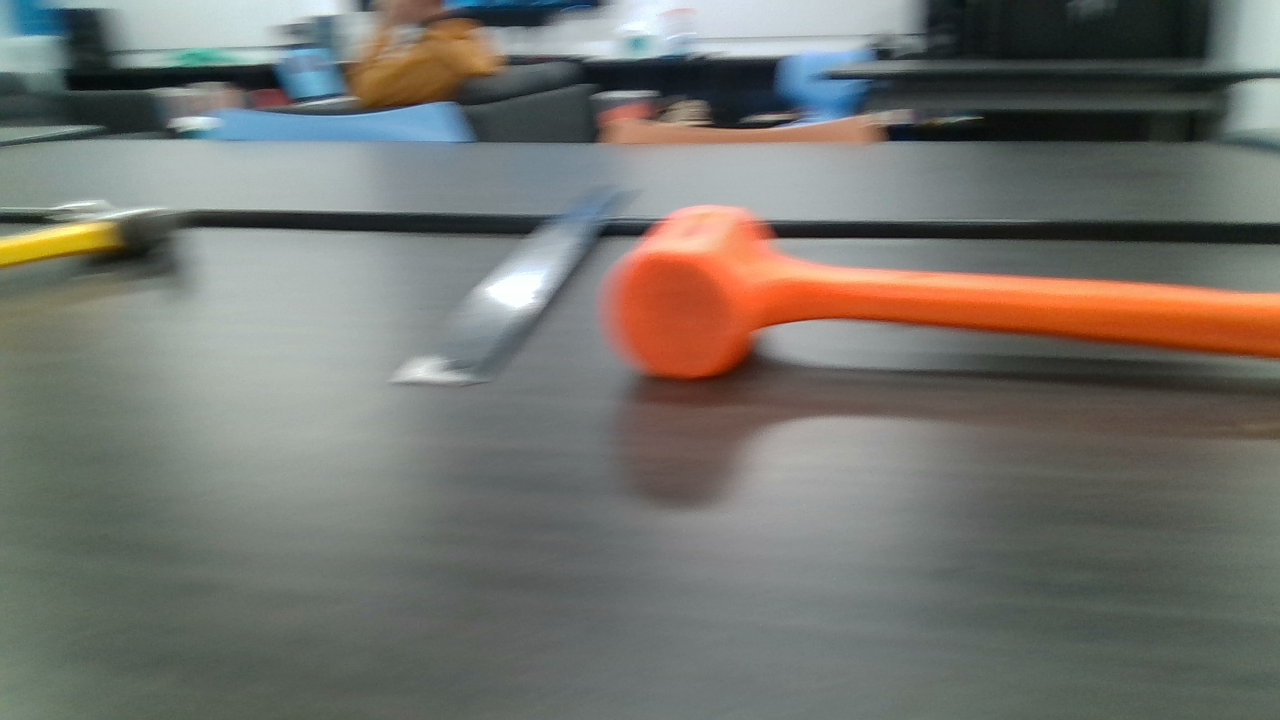Orange Hammer: (608, 205, 1265, 384)
